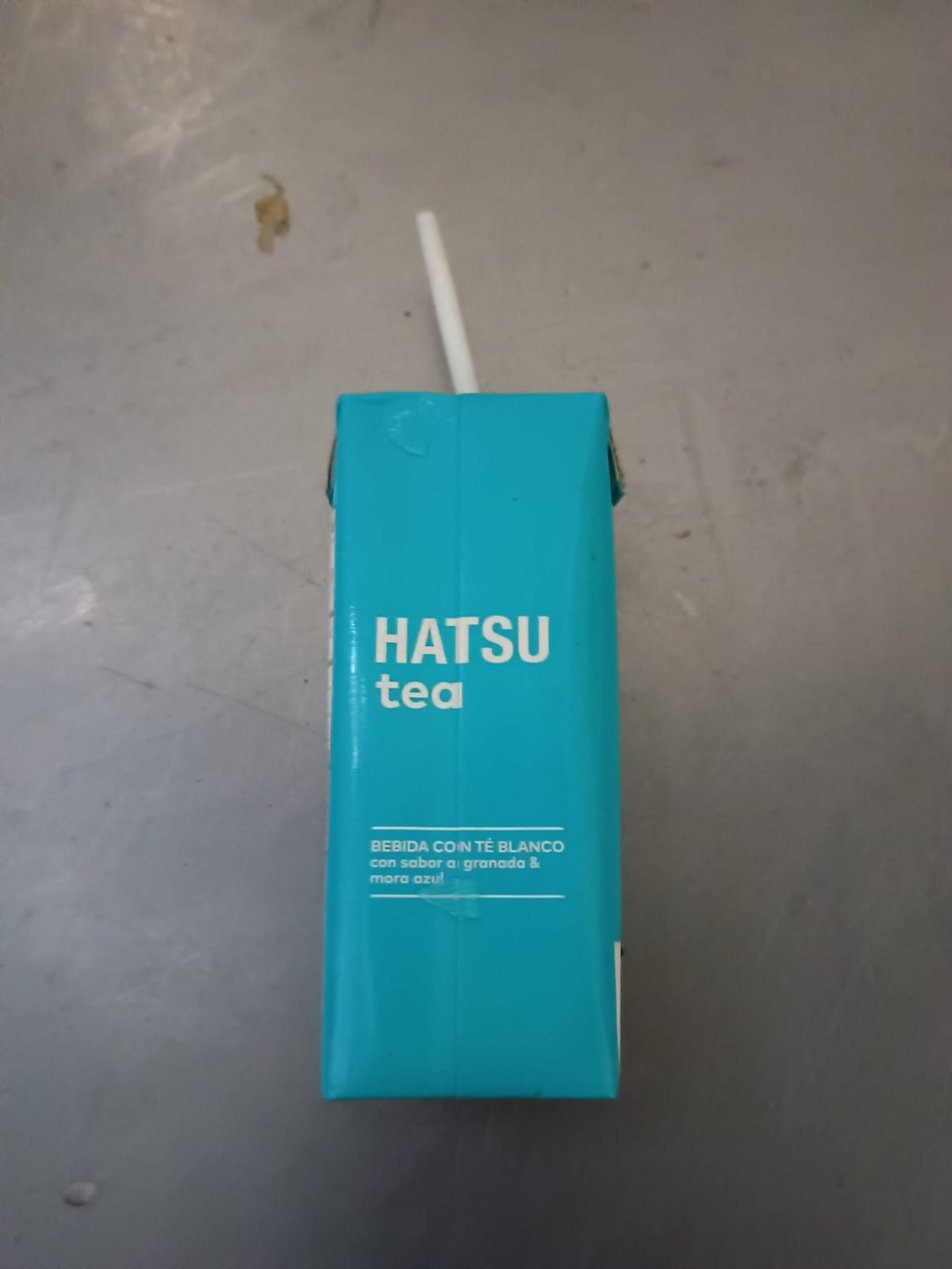Carton: (319, 386, 625, 1097)
